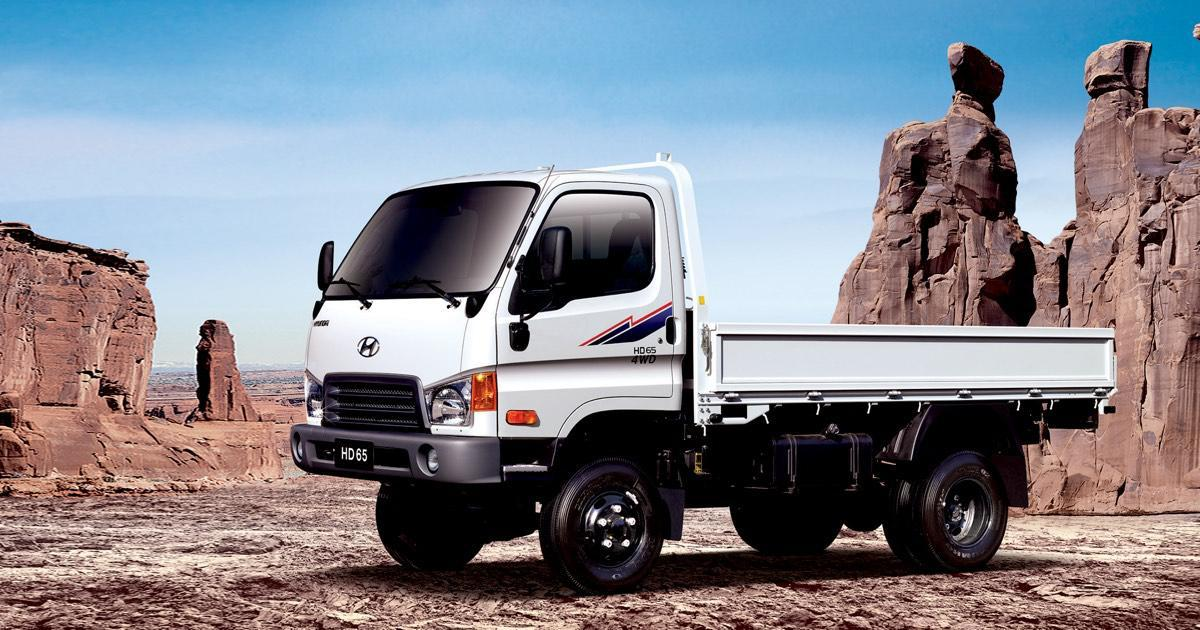Truck: (291, 153, 1117, 592)
